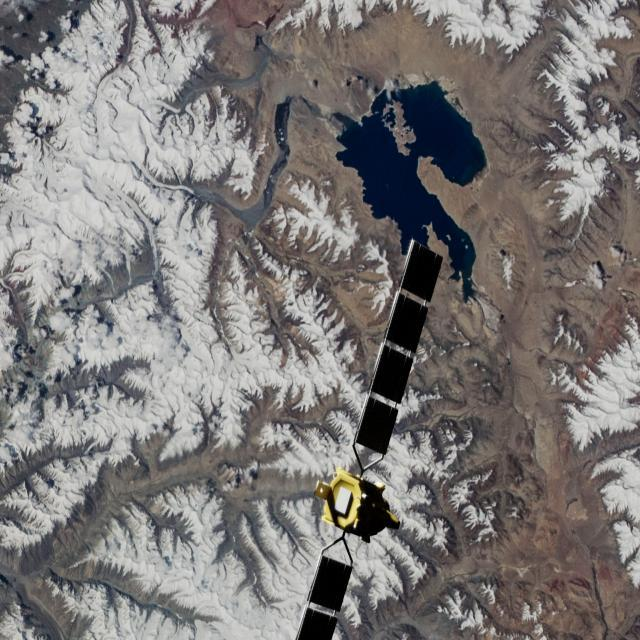satellite: (280, 234, 463, 640)
